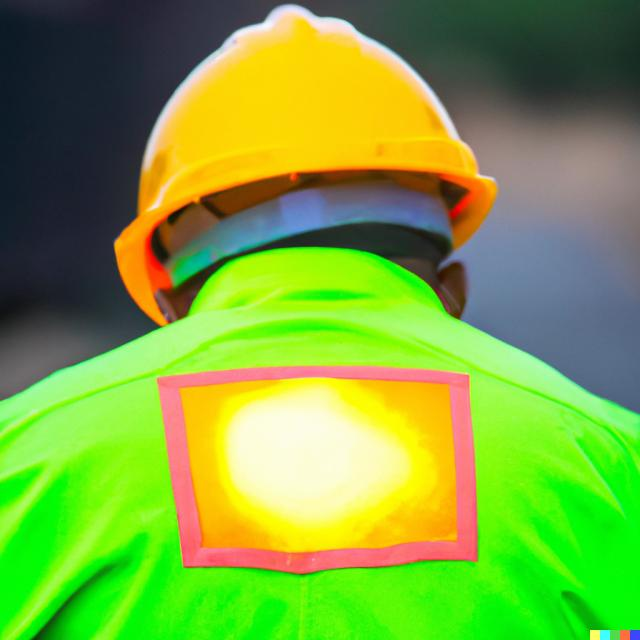Reflective-Jacket: (15, 244, 639, 635)
Safety-Helmet: (114, 8, 505, 237)
